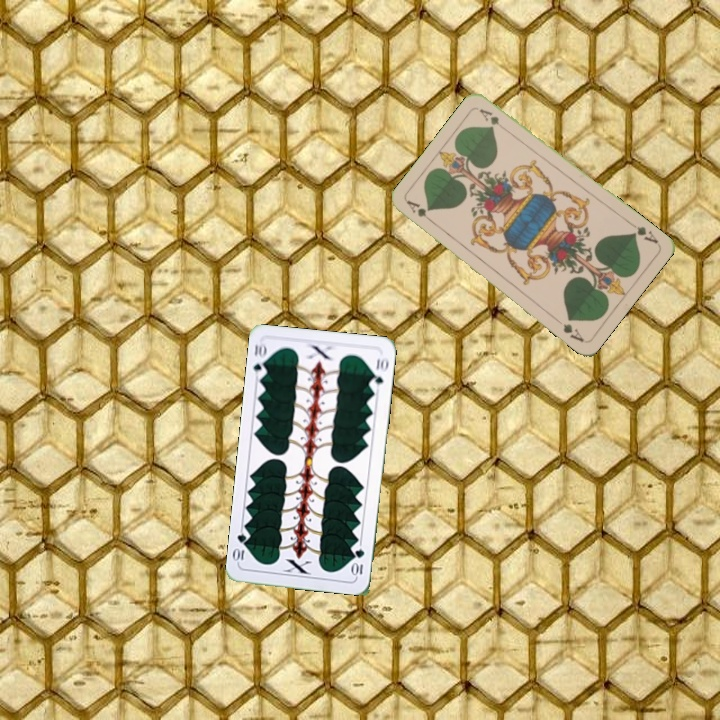G10: (249, 339, 270, 380), (349, 544, 367, 579)
GA: (403, 196, 437, 227), (625, 218, 661, 246)
